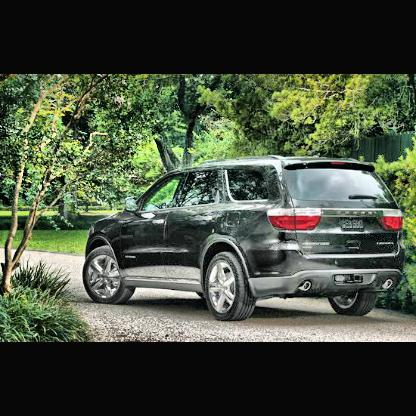Dodge Durango SUV 2012: (83, 153, 409, 323)
